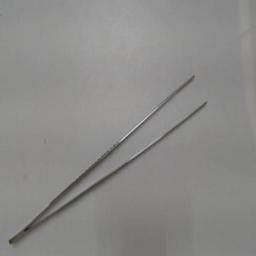DeBakey Dissector: (6, 72, 214, 248)
